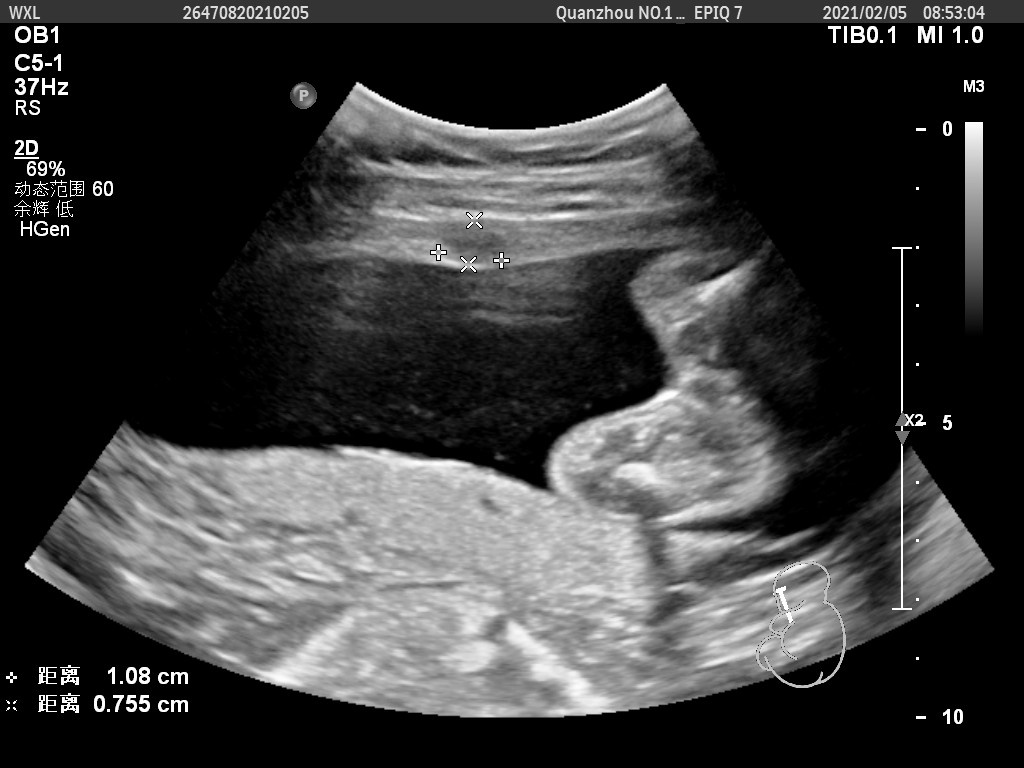肌瘤: (438, 223, 508, 266)
